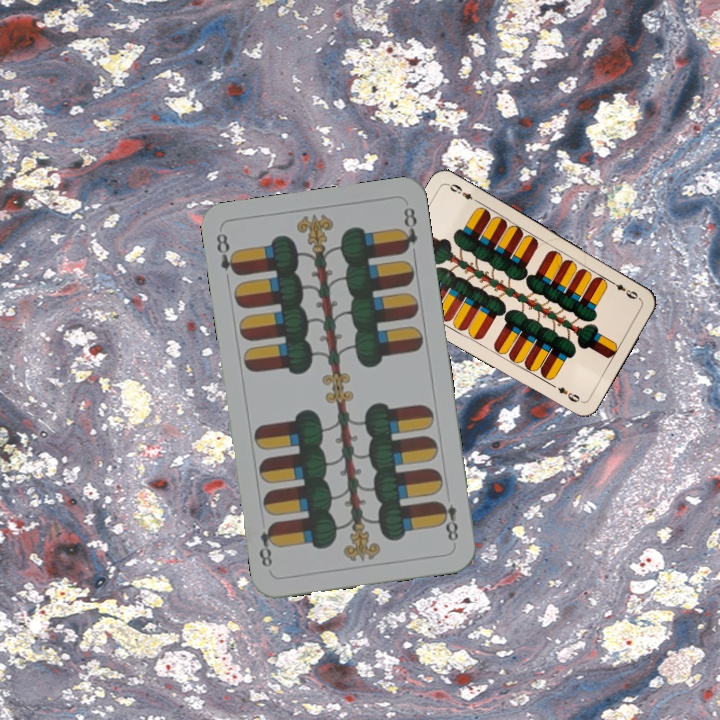E8: (212, 229, 242, 279), (435, 497, 461, 547)
E9: (606, 276, 643, 302)
